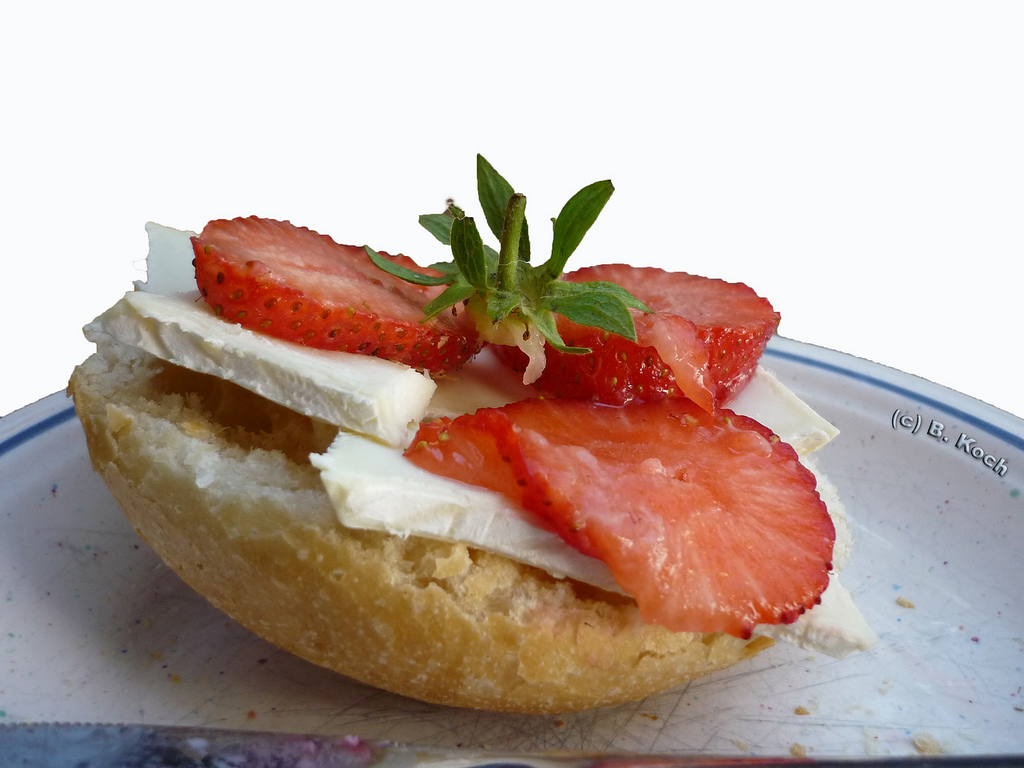slice of bread: (88, 386, 524, 671)
